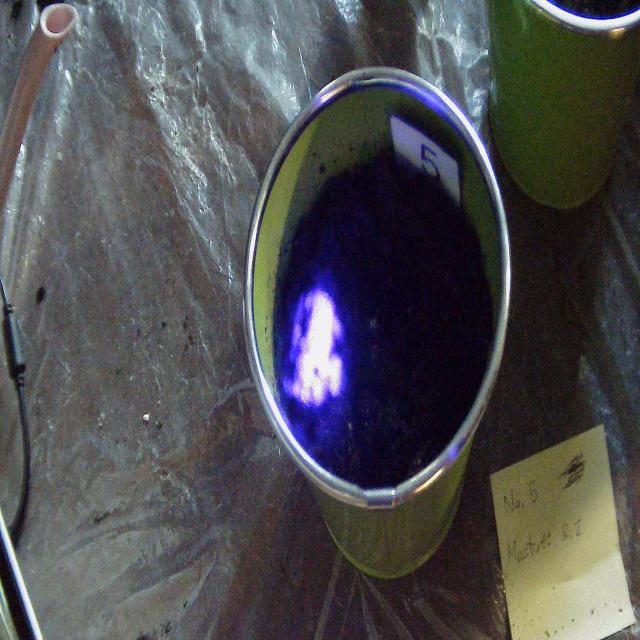soil-moisture-8.2: (287, 288, 348, 411)
